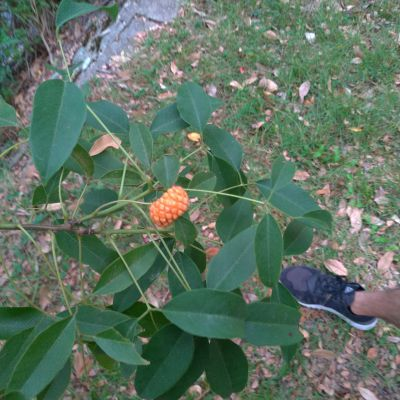eggs: (144, 180, 193, 228)
